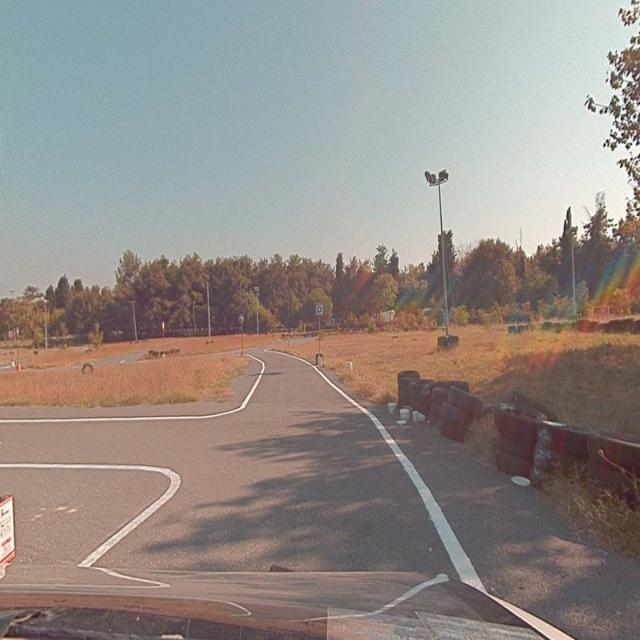durak: (317, 305, 323, 314)
